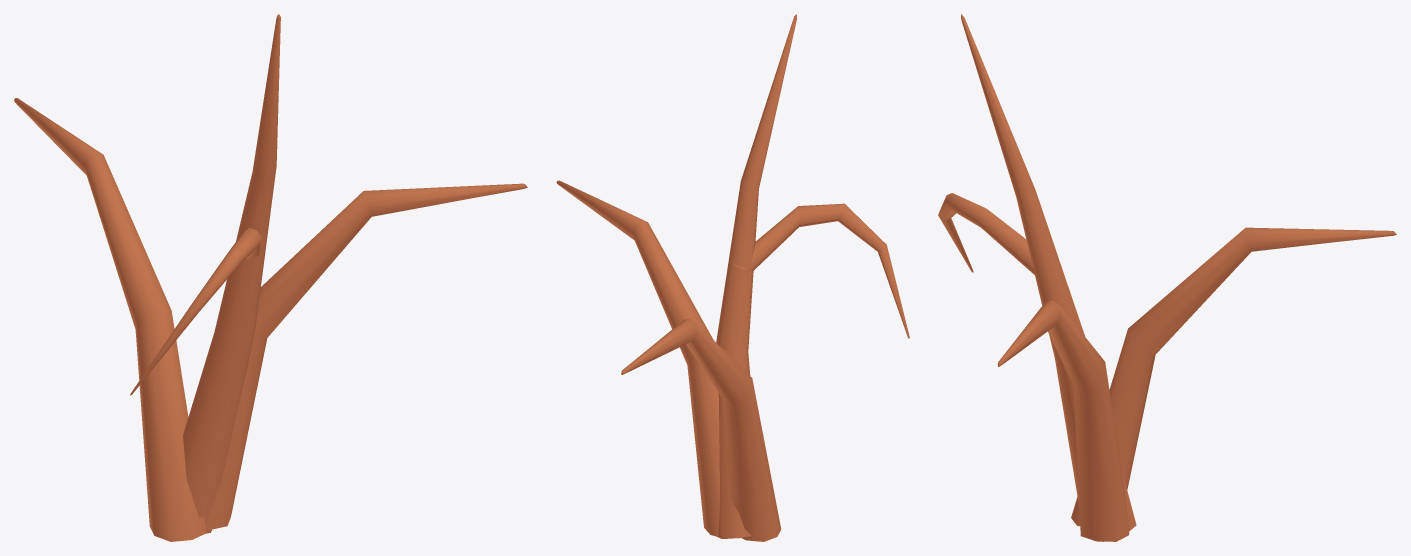
The model's file is twig_02.fbx.
The picture shows the model from 3 angles, left to right: view 1: azimuth 30°, elevation 25°; view 2: azimuth 150°, elevation 25°; view 3: azimuth 270°, elevation 25°; orthographic projection. The views are drawn at different scales.
Parts seen in each view (by area): view 1: twig_02; view 2: twig_02; view 3: twig_02.
Boxes of the visible parts, left/top/right/bottom form: twig_02: left=14, top=14, right=527, bottom=541; twig_02: left=556, top=14, right=909, bottom=541; twig_02: left=938, top=14, right=1396, bottom=541.
Size of the model in its own units: 68.2 by 90.26 by 71.93.
